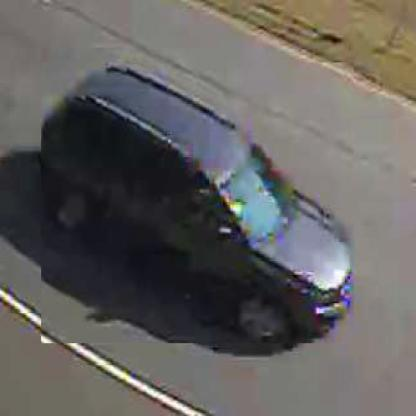car: (42, 63, 356, 346)
